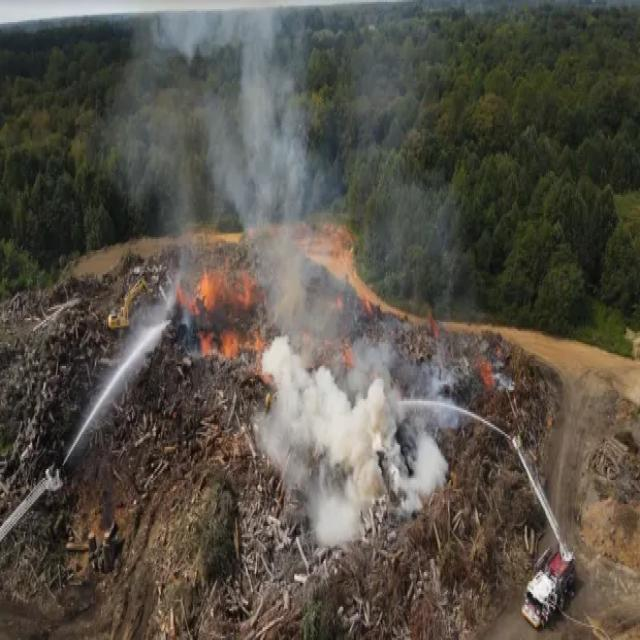Smoke: (142, 1, 458, 539)
